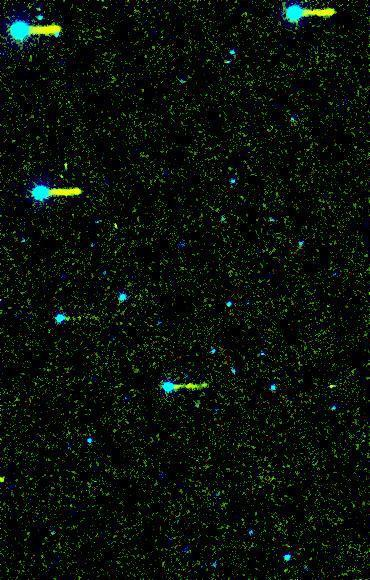star: (316, 372, 346, 402)
